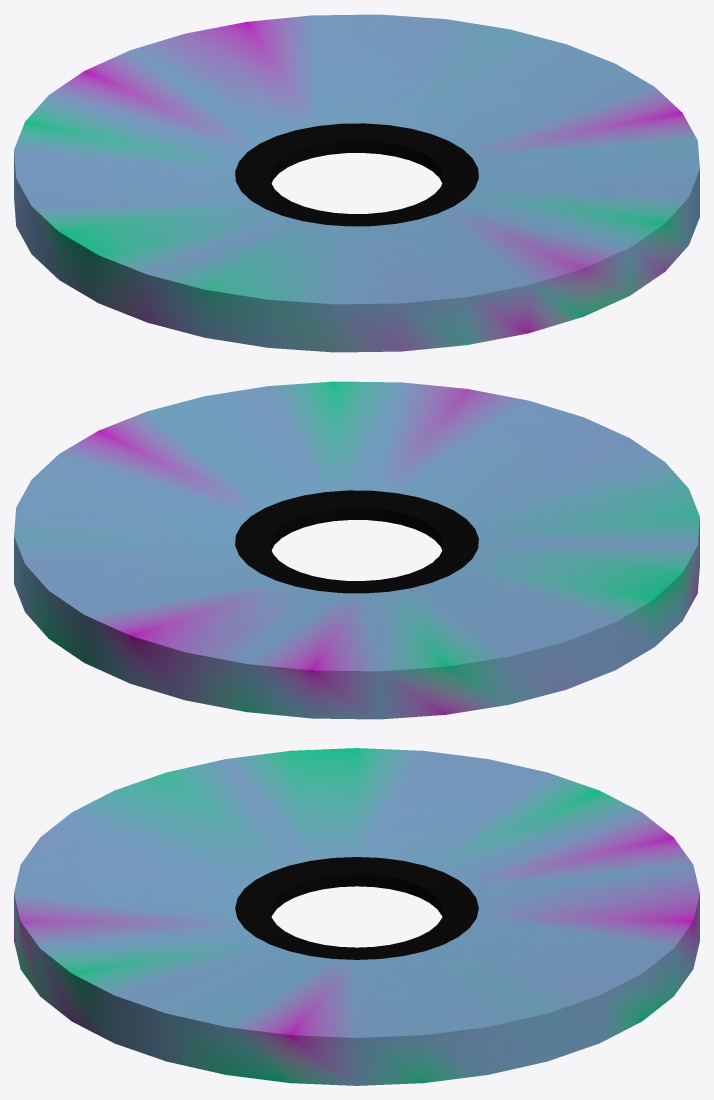
3 views of the same model, one above another, from view 1: azimuth 30°, elevation 25°; view 2: azimuth 150°, elevation 25°; view 3: azimuth 270°, elevation 25° (orthographic).
Parts seen in each view (by area): view 1: Cylinder; view 2: Cylinder; view 3: Cylinder.
Boxes of the visible parts, bbox=[...] form: Cylinder: bbox=[14, 14, 699, 352]; Cylinder: bbox=[14, 381, 699, 719]; Cylinder: bbox=[14, 748, 699, 1085].
Bounding box in the file's own units: 0.5154 × 0.0398 × 0.5154.
